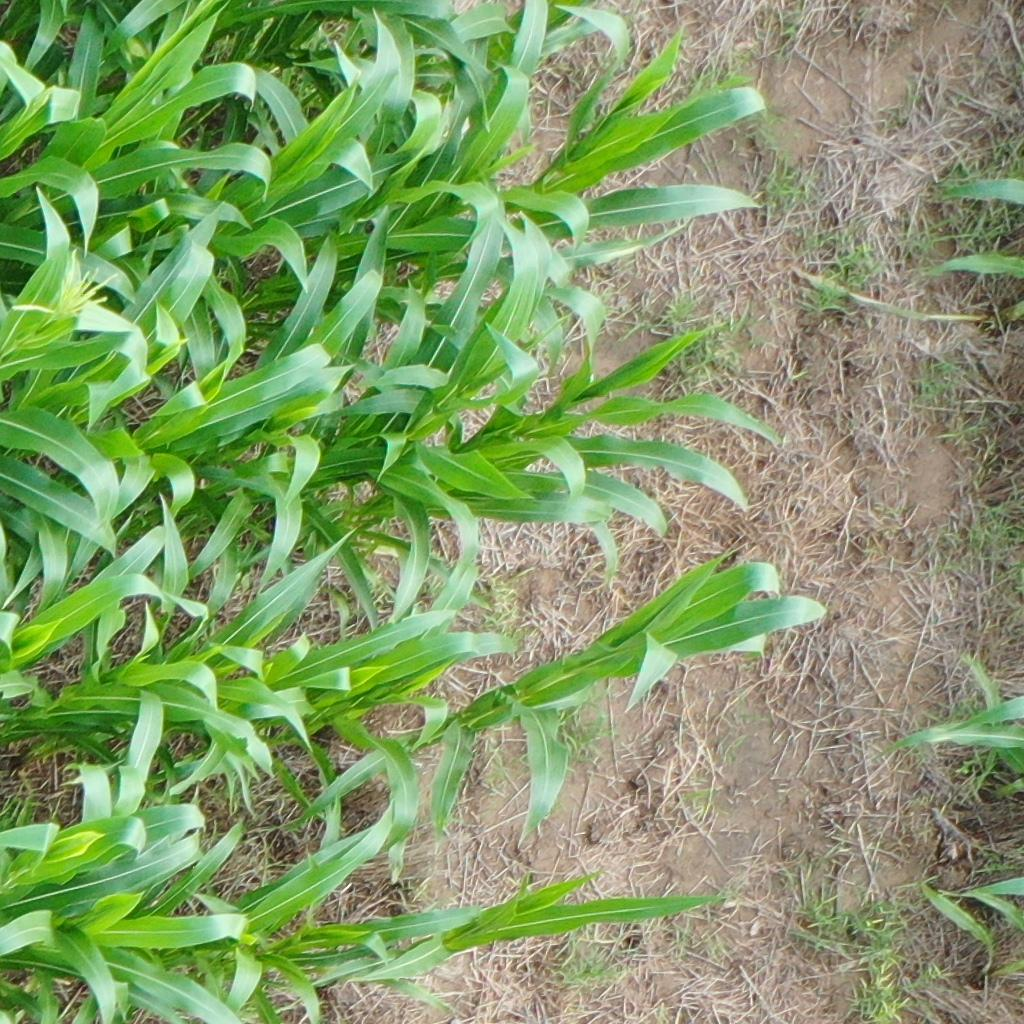Tassel: (11, 249, 117, 324)
